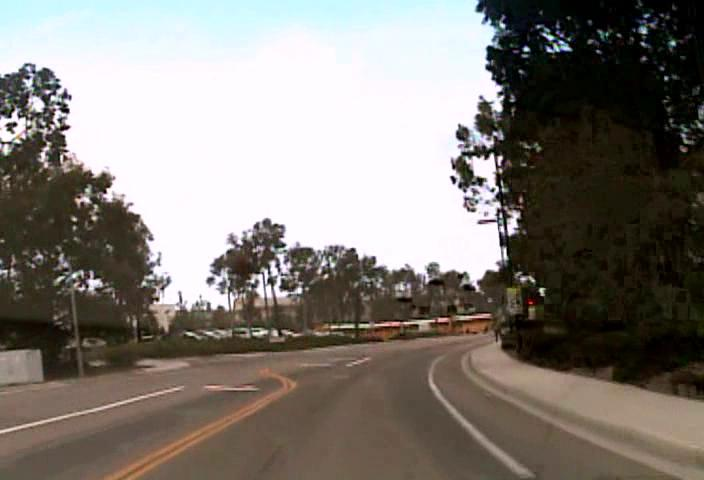schoolSpeedLimit25: (505, 285, 523, 316)
